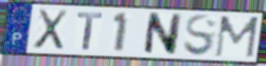1: (111, 11, 129, 53)
M: (212, 15, 261, 59)
N: (142, 11, 185, 57)
S: (182, 13, 219, 58)
T: (76, 11, 104, 51)
X: (31, 8, 70, 51)
